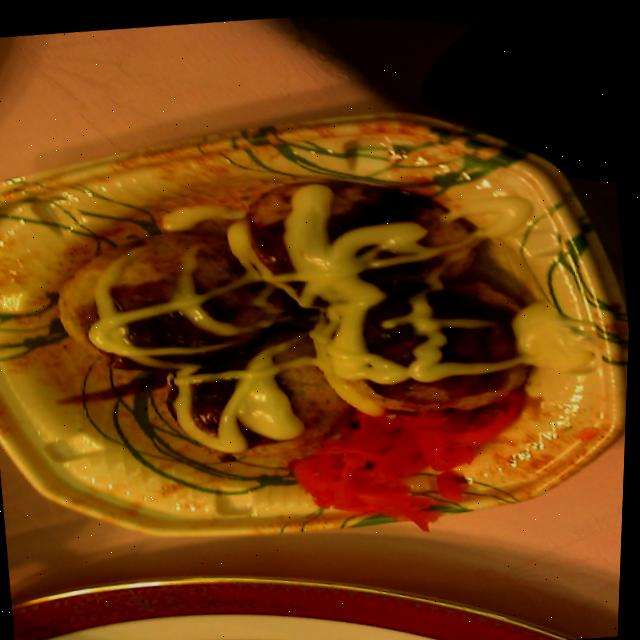炸货点心: (0, 50, 639, 596)
